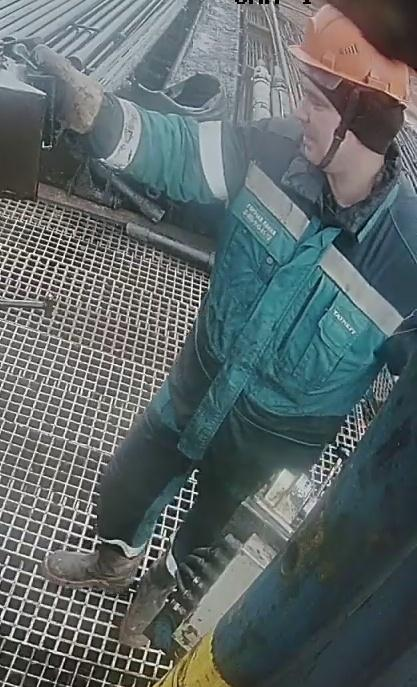gloves: (30, 45, 112, 138)
helmet: (288, 1, 412, 106)
vest: (158, 118, 416, 458)
